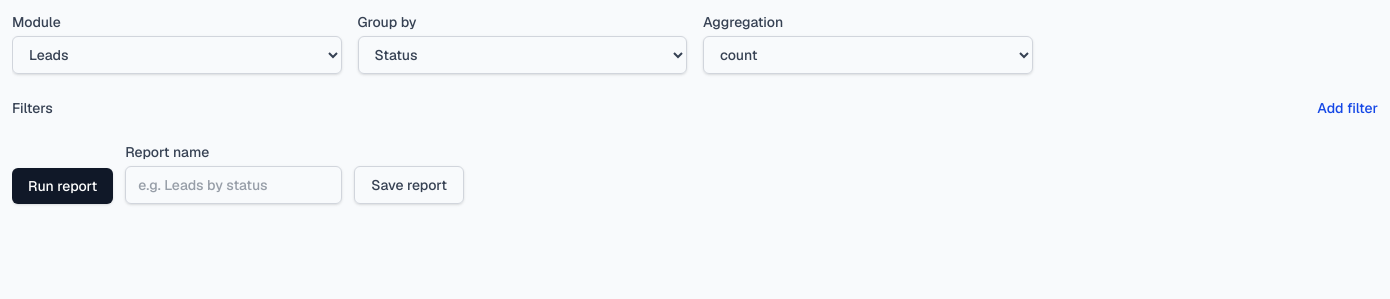
ReportBuilder › runs the built report and renders its chart
Step 1. Click the button "Run report" → coordinates (63, 186), box [12,168,113,204]
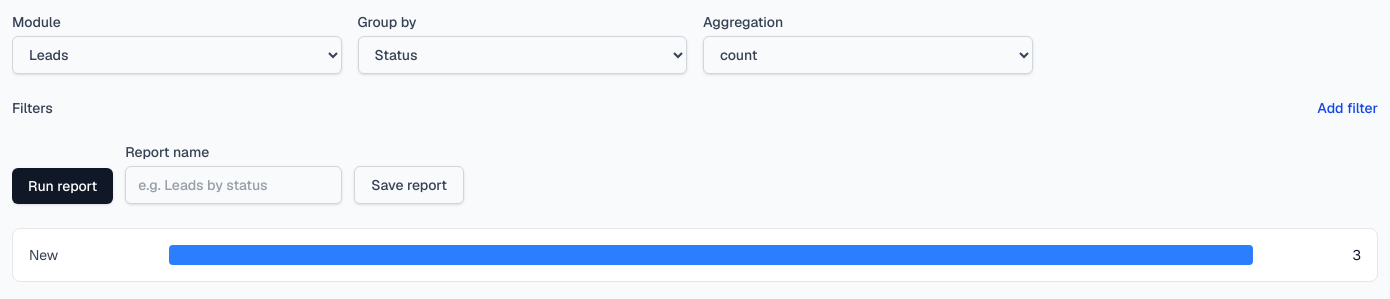
Check: the element with test id "report-bar-new" is shown, box [29,245,1361,265]
